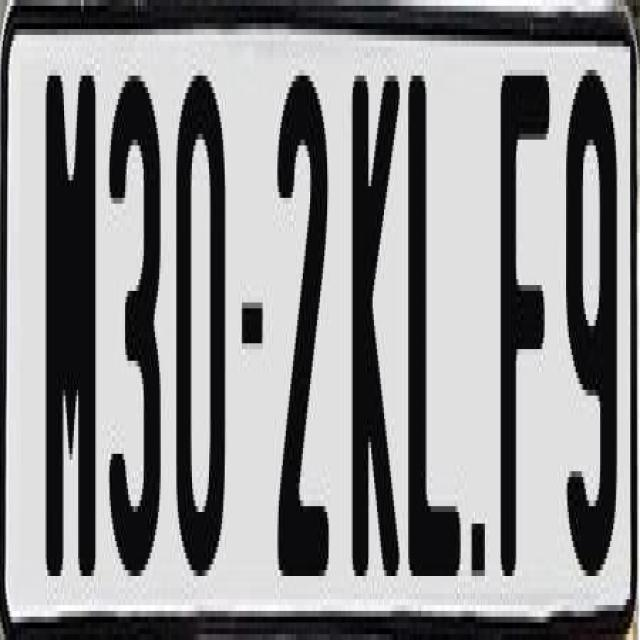0: (175, 70, 225, 570)
2: (278, 58, 332, 559)
3: (110, 70, 170, 594)
9: (563, 64, 619, 588)
F: (498, 75, 546, 606)
K: (350, 64, 397, 576)
L: (407, 76, 465, 612)
M: (41, 75, 97, 588)
